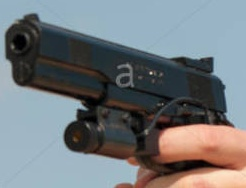pistol: (2, 9, 238, 187)
